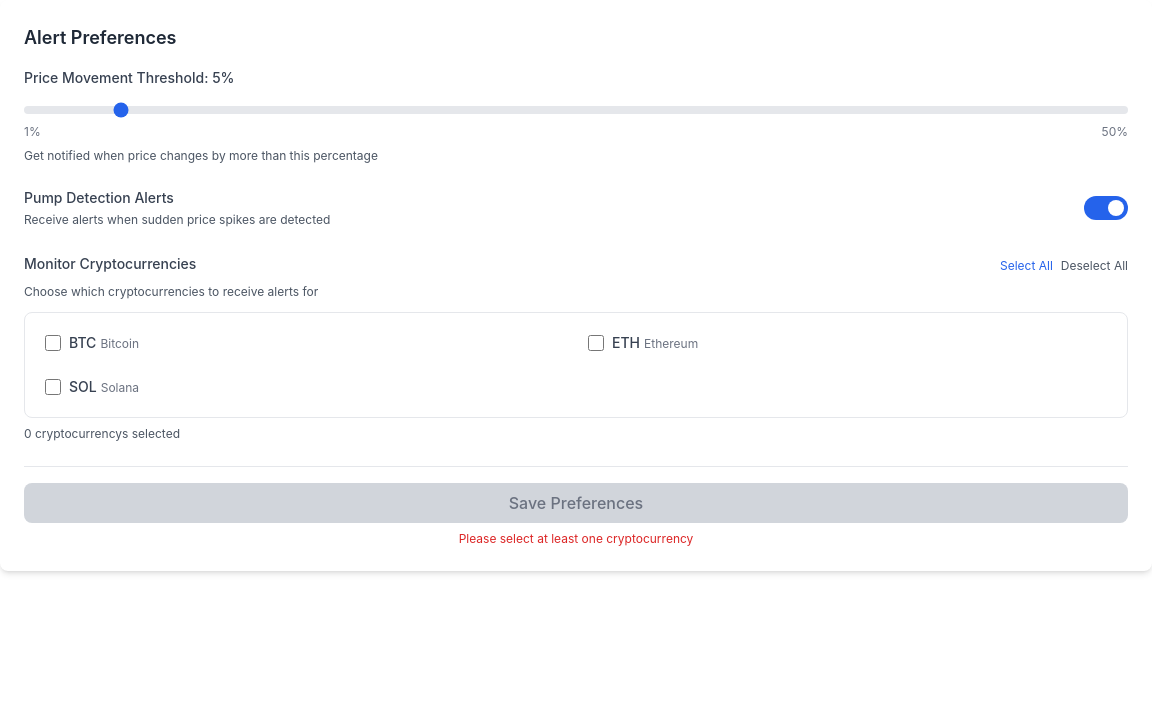
AlertPreferences › should display error message when save fails
Check: the text "Price Movement Threshold: 5%" is shown, box x1=24 y1=69 x2=234 y2=86
# Select a cryptocurrency
Click the checkbox labelled "BTC" at (53, 343), box x1=45 y1=335 x2=61 y2=351
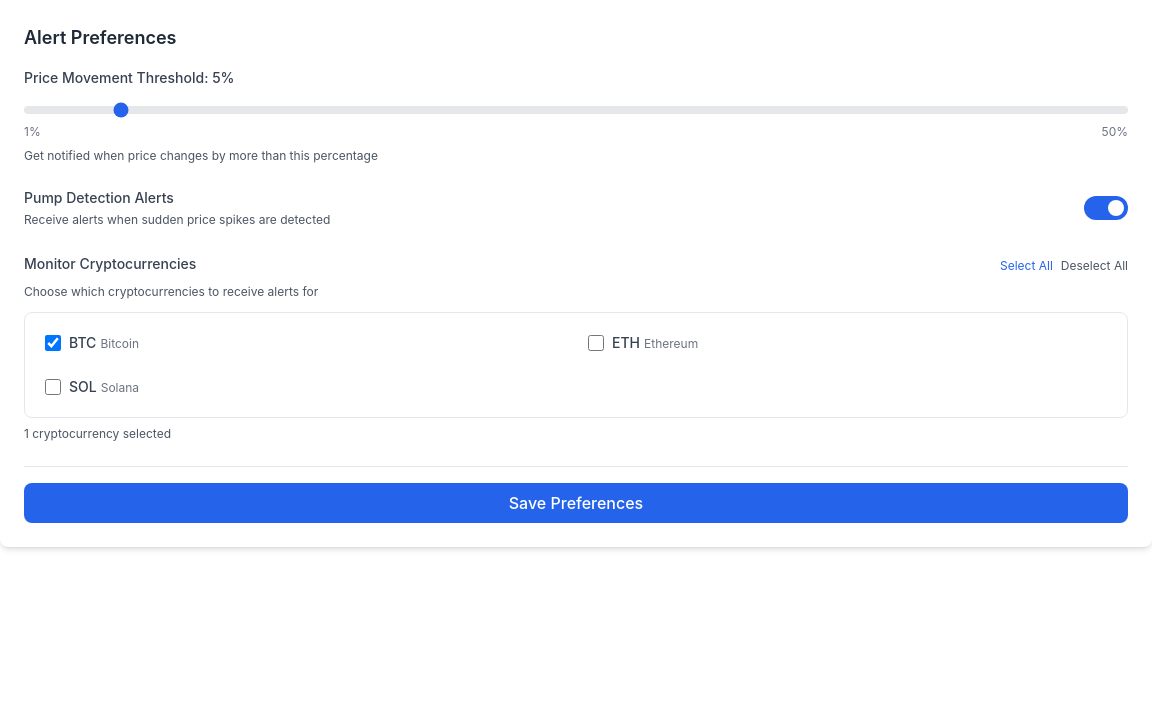
# Click save
Click the button "Save Preferences" at (576, 503), box x1=24 y1=483 x2=1128 y2=523
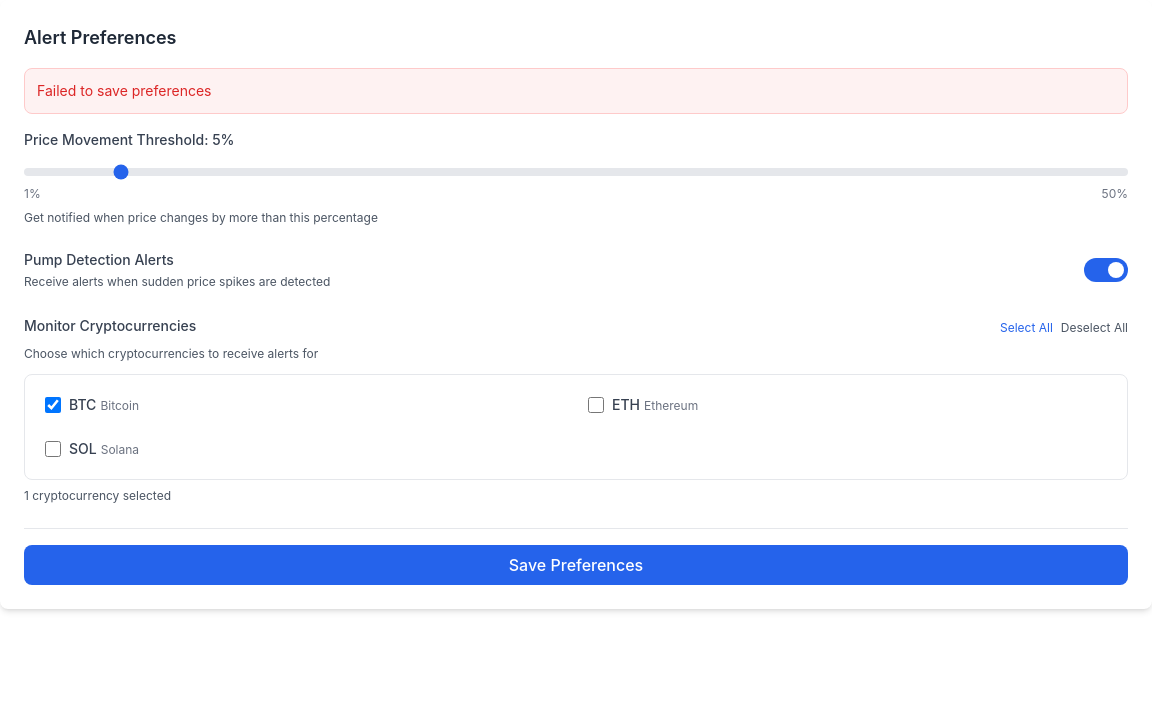
Check: the text "Failed to save preferences" is shown, box x1=37 y1=82 x2=212 y2=99
